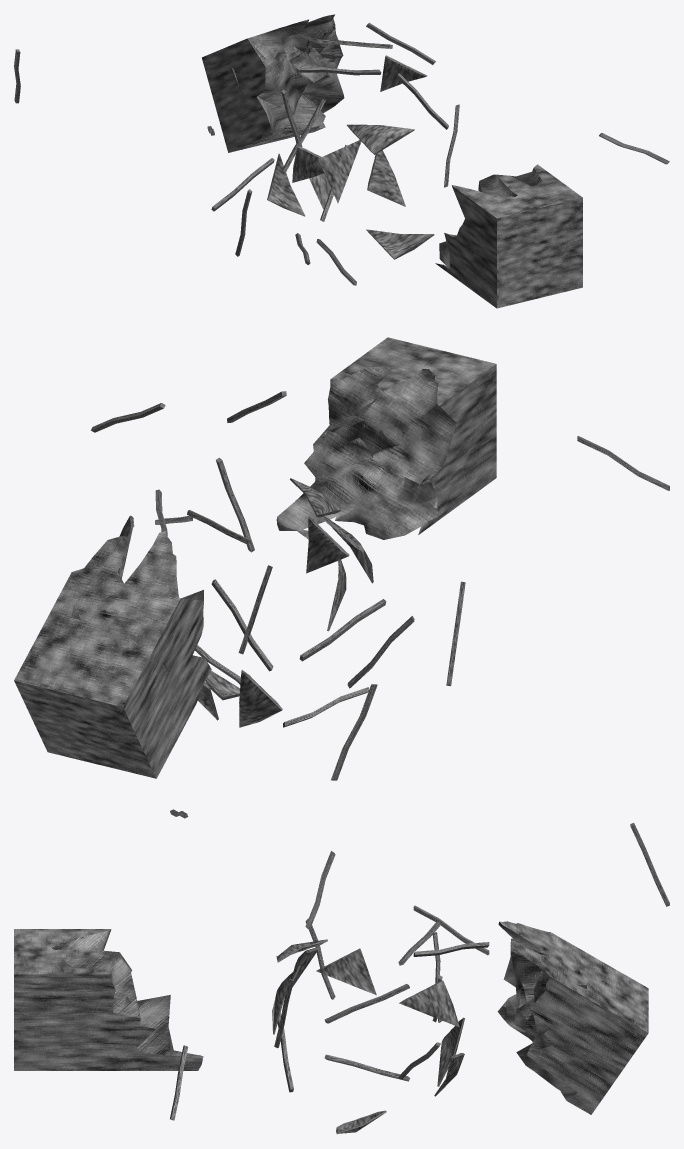
The model's file is wreck.FBX.
3 views of the same model, one above another, from view 1: azimuth 30°, elevation 25°; view 2: azimuth 150°, elevation 25°; view 3: azimuth 270°, elevation 25° (orthographic). The views are drawn at different scales.
Visible parts, largest first — view 1: Plane003, Plane004, Box010, Box014, Box007, Box003, Box011; view 2: Plane004, Plane003, Box010, Box014, Box007, Box003, Box005, Box012, Box015, Box004; view 3: Plane003, Plane004, Box003, Box010, Box014, Box007, Box008, Box012.
Boxes of the visible parts, x1,y1,x2,y2 form: Plane003: [435, 164, 582, 308]; Plane004: [201, 14, 344, 152]; Box010: [267, 150, 405, 216]; Box014: [347, 124, 434, 259]; Box007: [309, 140, 361, 209]; Box003: [292, 55, 427, 182]; Box011: [296, 67, 381, 75]; Plane004: [14, 531, 211, 778]; Plane003: [276, 337, 496, 539]; Box010: [239, 515, 349, 727]; Box014: [205, 478, 340, 700]; Box007: [198, 516, 373, 720]; Box003: [118, 515, 346, 631]; Box005: [299, 599, 386, 661]; Box012: [331, 684, 377, 780]; Box015: [211, 579, 273, 671]; Box004: [216, 457, 254, 552]; Plane003: [14, 929, 203, 1070]; Plane004: [497, 921, 648, 1114]; Box003: [316, 948, 459, 1027]; Box010: [272, 965, 464, 1086]; Box014: [276, 939, 386, 1134]; Box007: [292, 947, 464, 1096]; Box008: [324, 984, 409, 1023]; Box012: [630, 823, 669, 906].
Bounding box in the file's own units: 281 × 144 × 325.
